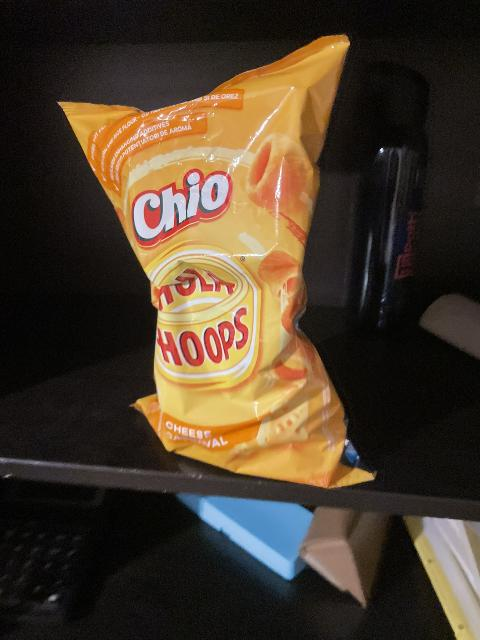Chio Hula Hoops Cheese 70g: (58, 38, 361, 479)
